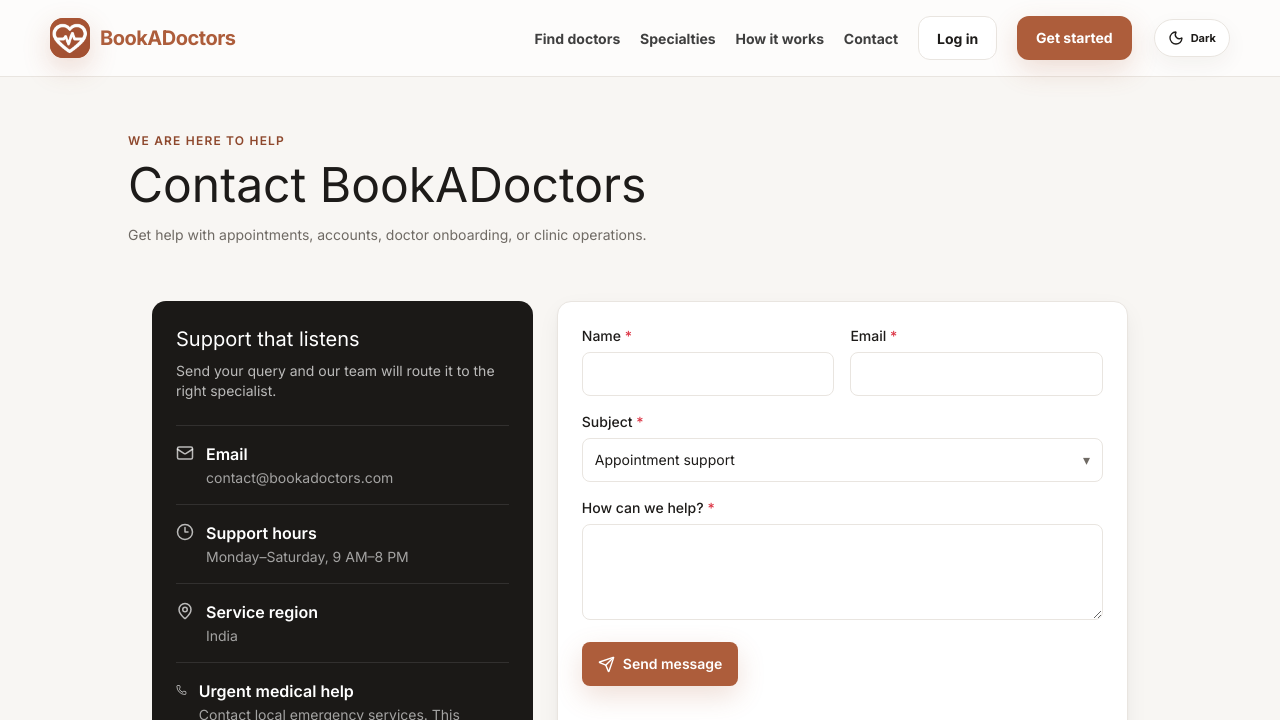
Scenario: PublicContent › renders the Contact page with support details and submits the contact form for real
Expected: the heading "Contact BookADoctors" is shown, [128,155,646,214]
Expected: the text "contact@bookadoctors.com" is shown, [206,468,393,488]
# Every field here is `required`, so FormField appends a " *" to the visible label text.
Type "Rahul V" into the field labelled "Name *" at (708, 374), box [582,352,834,396]
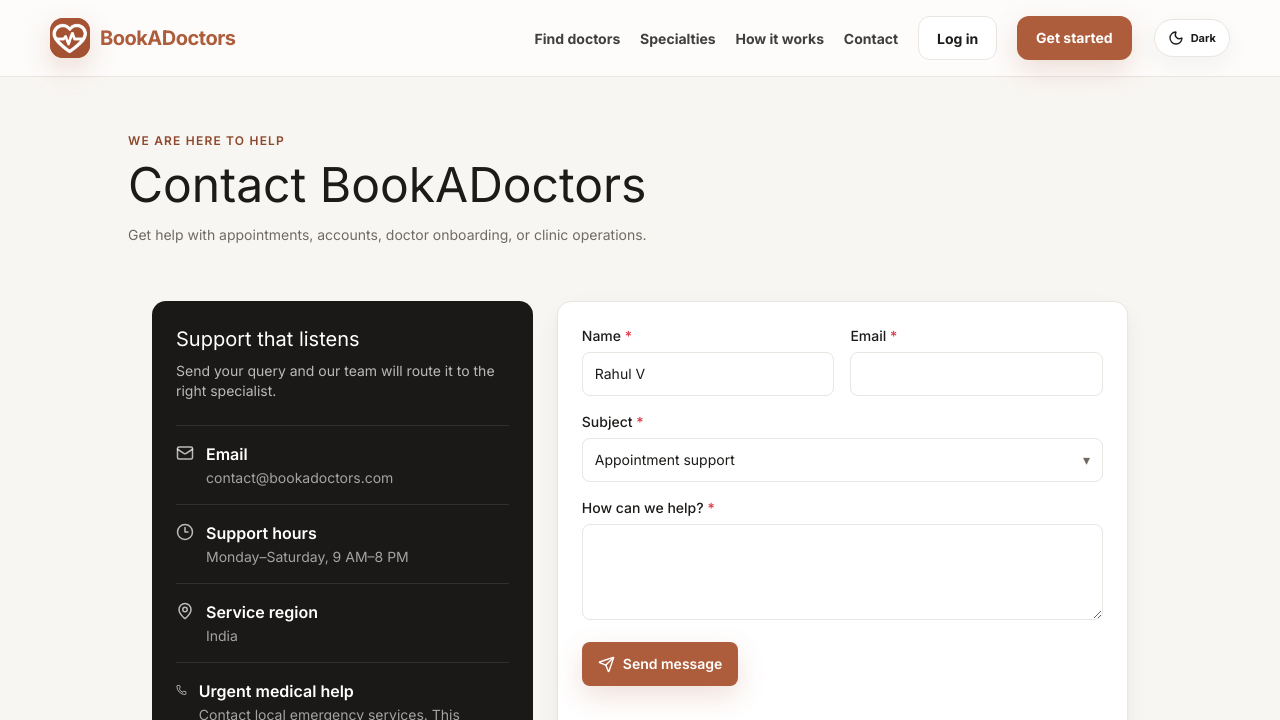
Type "rahul@example.com" into the field labelled "Email *" at (977, 374), box [850,352,1103,396]
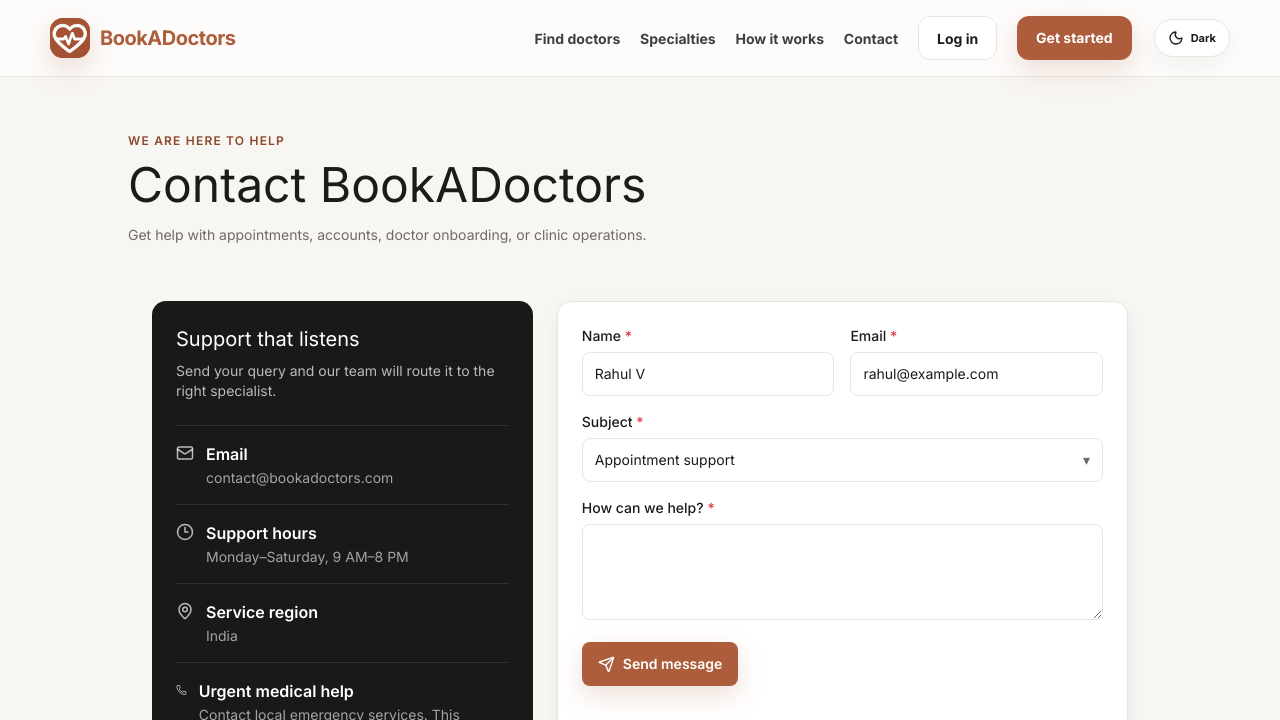
Select "Payment or billing" in the dropdown labelled "Subject * Appointment support ▾" at (842, 447), box [582,412,1103,482]
Type "My payment failed but was deducted." into the text box labelled "How can we help? *" at (842, 572), box [582,524,1103,620]
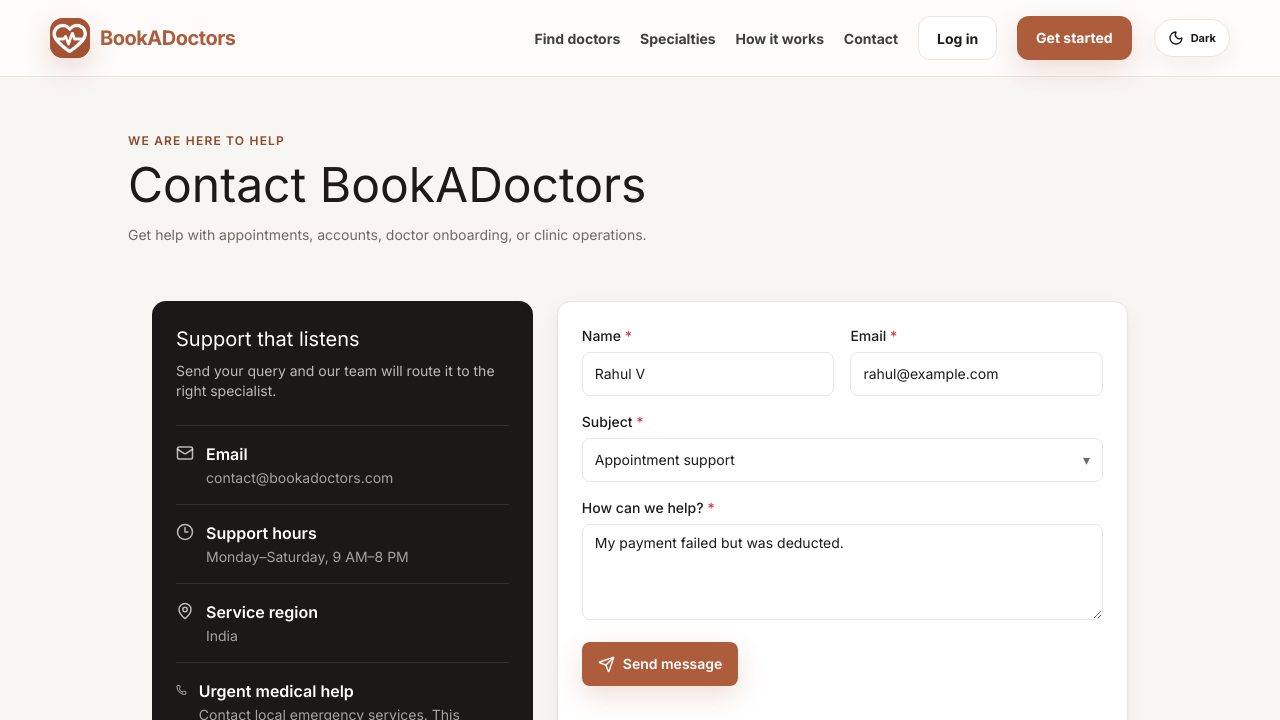
Click the button "Send message" at (660, 664), box [582,642,738,686]
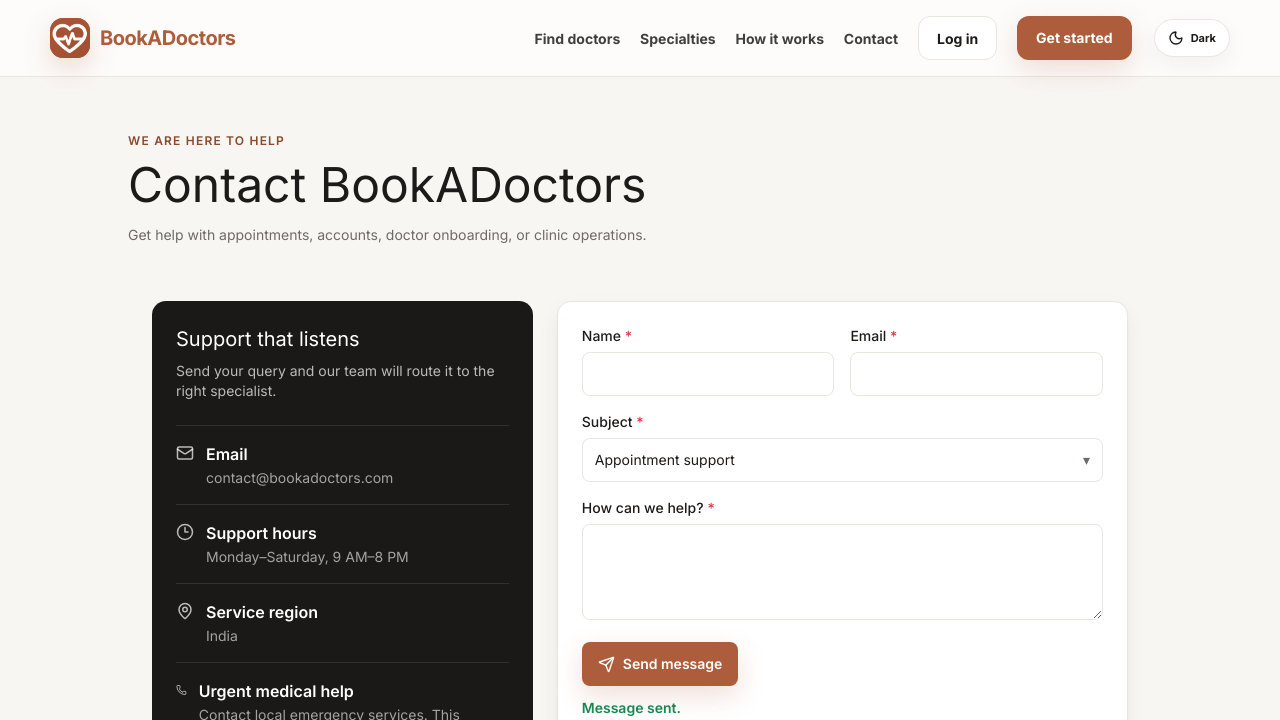
Result: the text "Message sent." is shown at [582,699,681,716]
